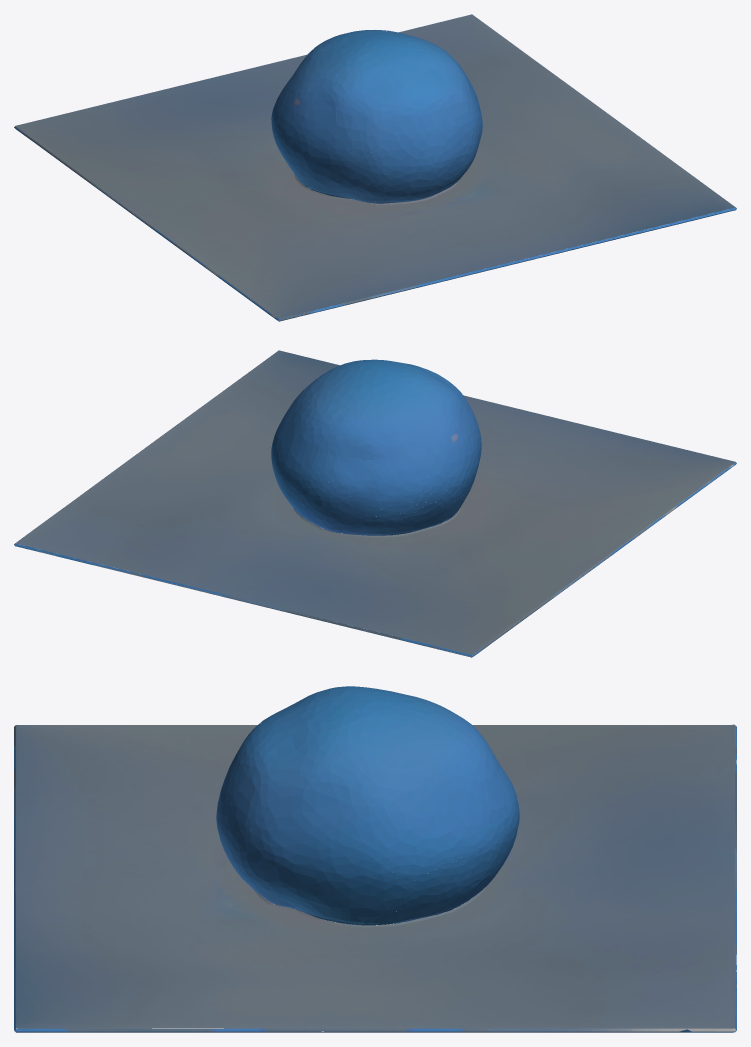
File: dewdrop.glb
3 renders of one model, top to bottom at view 1: azimuth 30°, elevation 25°; view 2: azimuth 150°, elevation 25°; view 3: azimuth 270°, elevation 25°, orthographic. The views are drawn at different scales.
Visible parts, largest first — view 1: textured.obj; view 2: textured.obj; view 3: textured.obj.
Boxes of the visible parts, bbox=[...] form: textured.obj: bbox=[14, 14, 736, 321]; textured.obj: bbox=[14, 350, 736, 657]; textured.obj: bbox=[14, 686, 736, 1032].
Bounding box in the file's own units: 0.003 × 0.000819 × 0.003.
1 material, 1 textured.
